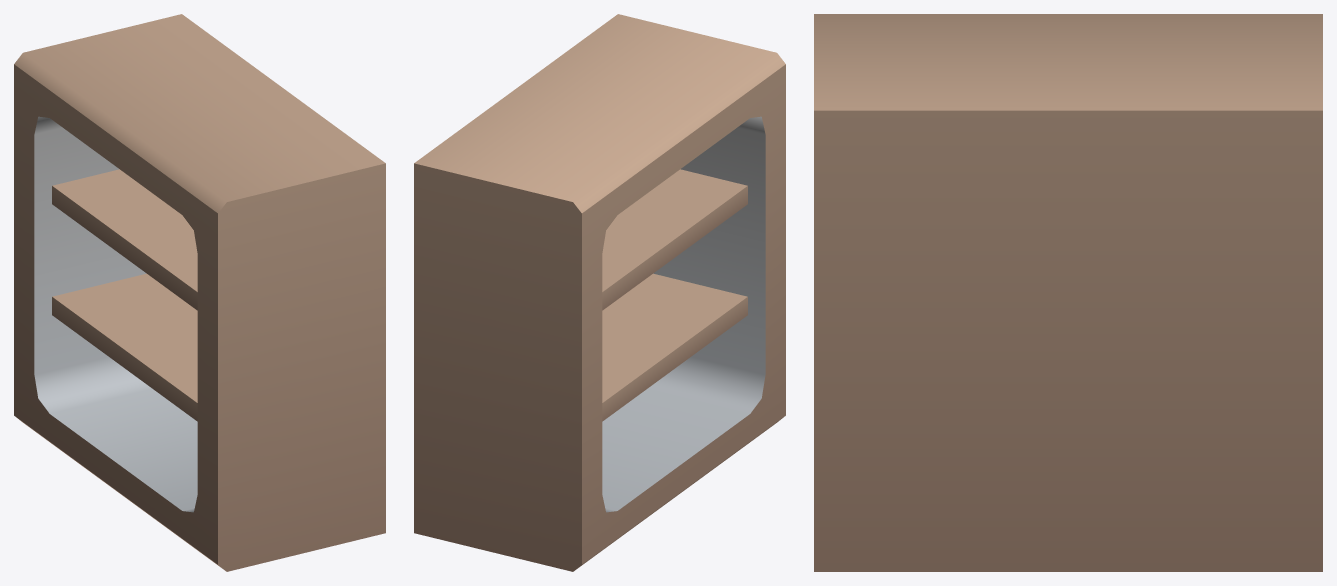
The model's file is cabinet-basic-upper-open (%wall).glb.
3 views of the same model, side by side, from view 1: azimuth 30°, elevation 25°; view 2: azimuth 150°, elevation 25°; view 3: azimuth 270°, elevation 25° (orthographic). The views are drawn at different scales.
Visible parts, largest first — view 1: cabinet-basic-upper-open (%wall); view 2: cabinet-basic-upper-open (%wall); view 3: cabinet-basic-upper-open (%wall).
Boxes of the visible parts, <box> form: cabinet-basic-upper-open (%wall): <box>14,14,385,571</box>; cabinet-basic-upper-open (%wall): <box>414,14,785,571</box>; cabinet-basic-upper-open (%wall): <box>814,14,1322,571</box>.
Size of the model in its own units: 0.2375 by 0.5 by 0.5.
